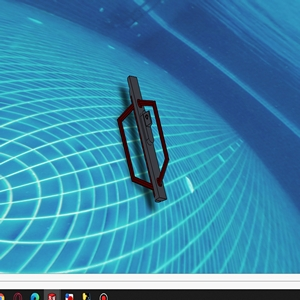submarine: (122, 70, 171, 204)
